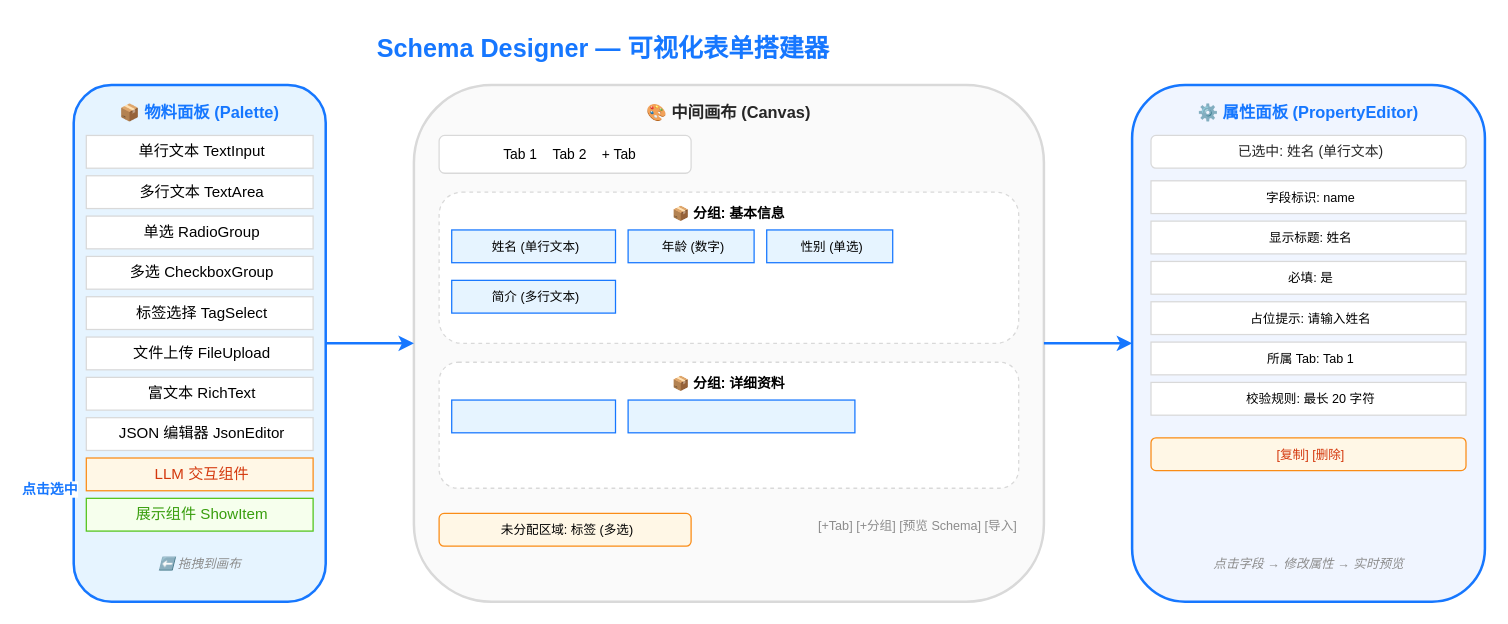
Image size: 1508x624. Some labels were removed from this diagram. The centre of each missing label's shape, as x and y in pixels:
"作品链接 (文件上传)" goes at pixel 741 416.
"特长 (多选)" goes at pixel 533 416.
